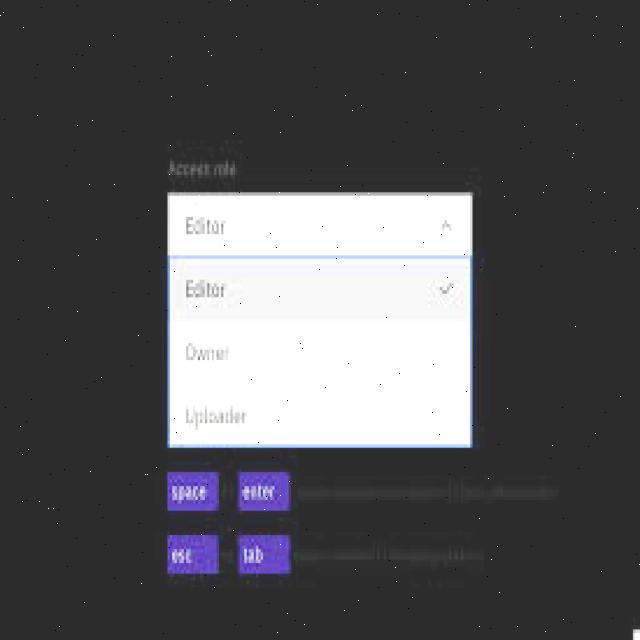button: (236, 534, 290, 574), (165, 472, 219, 510), (166, 534, 216, 574), (237, 472, 286, 510)
dropdownMenu: (167, 193, 473, 453)
menuItem: (174, 266, 464, 312), (180, 394, 254, 436), (180, 329, 240, 368)
